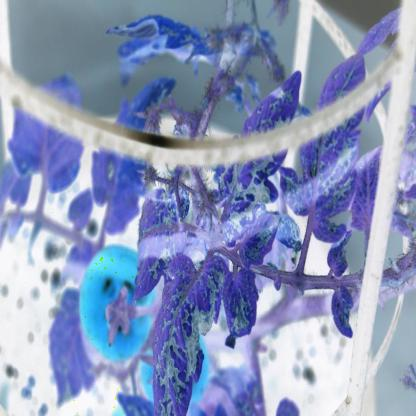Tomato leaf bacterial spot: (284, 53, 367, 256), (219, 61, 310, 224), (149, 239, 232, 409), (134, 183, 186, 301), (223, 263, 260, 349)
